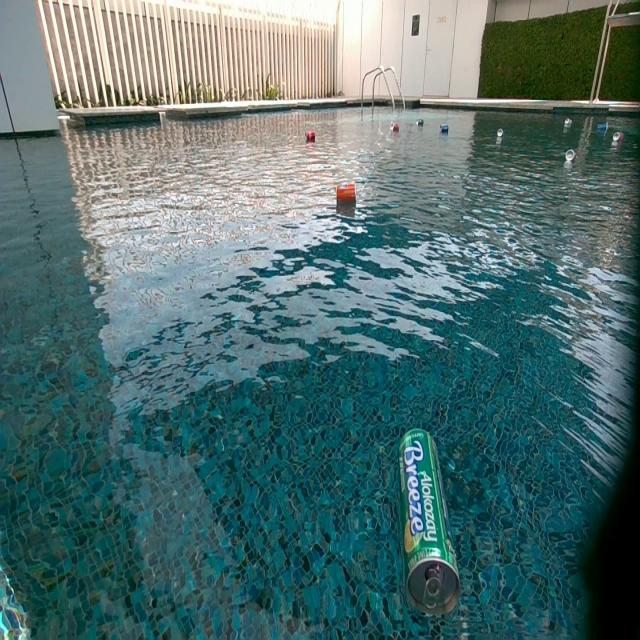Cans: (402, 427, 462, 614), (337, 182, 357, 202), (564, 149, 576, 161), (306, 131, 317, 144), (614, 132, 625, 144), (598, 122, 609, 134), (440, 121, 450, 131), (390, 120, 399, 131), (563, 117, 572, 127), (416, 118, 425, 127), (496, 129, 503, 138)
